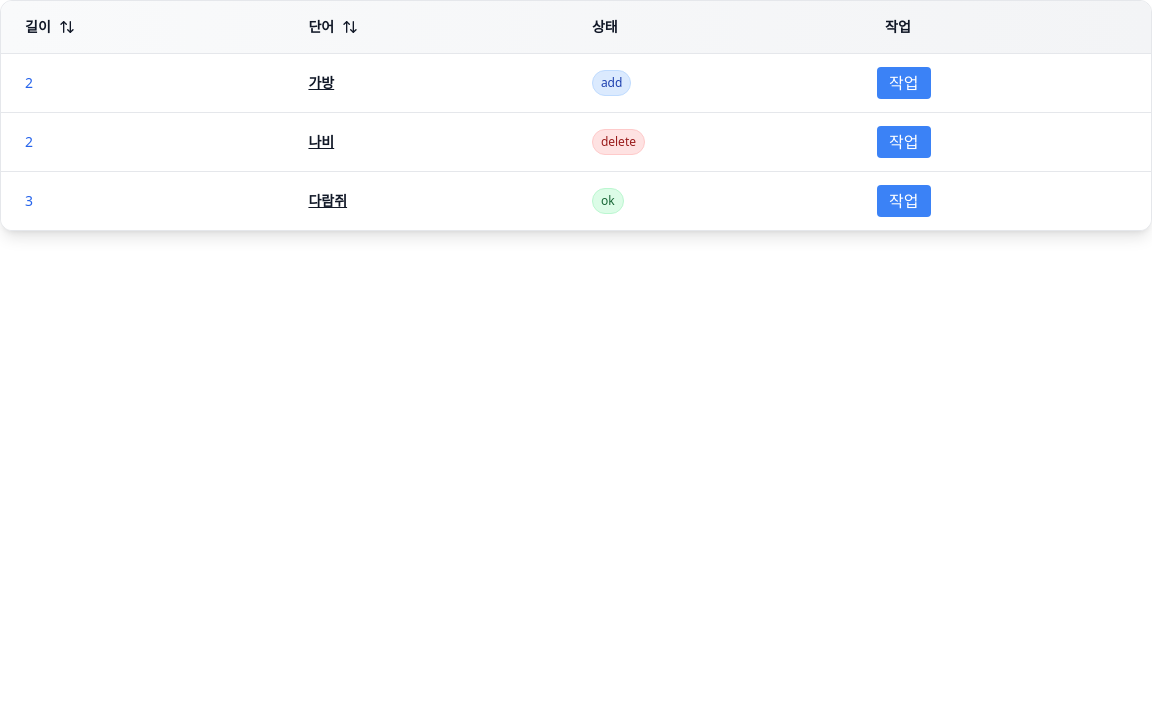
Scenario: Table administrator and legacy user actions › r4 requester에게 관리자 action은 숨기고 자신의 취소 action은 유지한다
Step 1. Click the button "작업" in the row of "가방" → (904, 83), box x1=877 y1=67 x2=930 y2=99
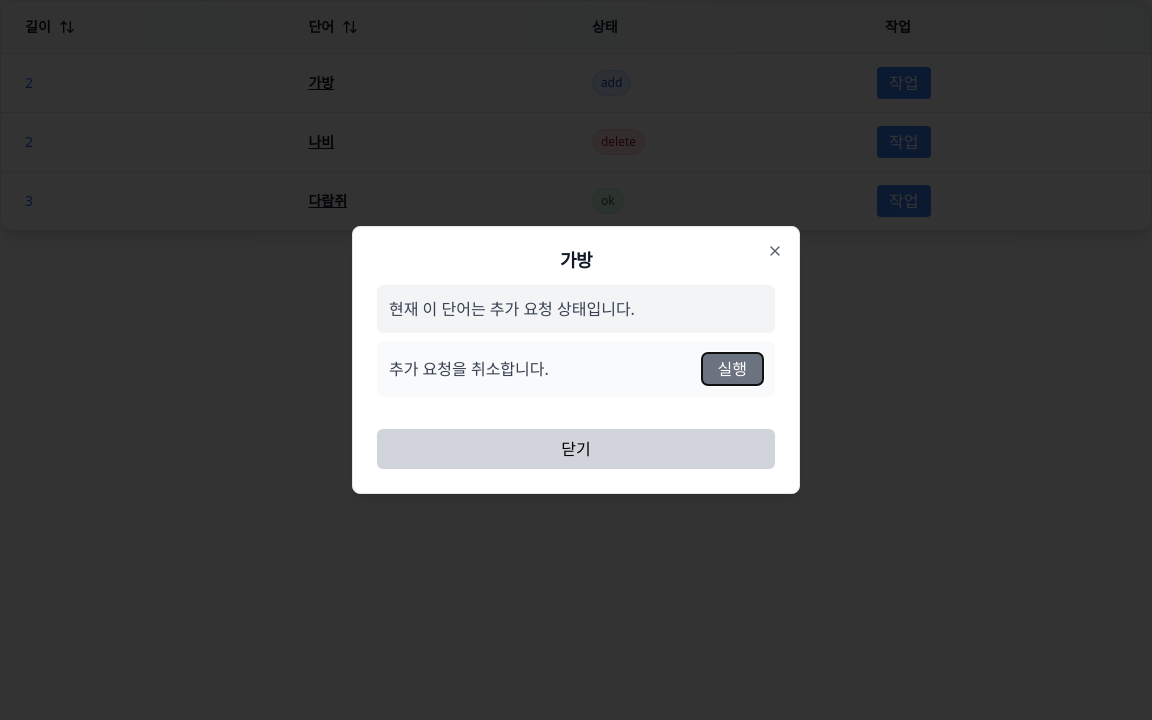
Now the text "추가 요청을 취소합니다." is shown, box x1=389 y1=357 x2=549 y2=381
